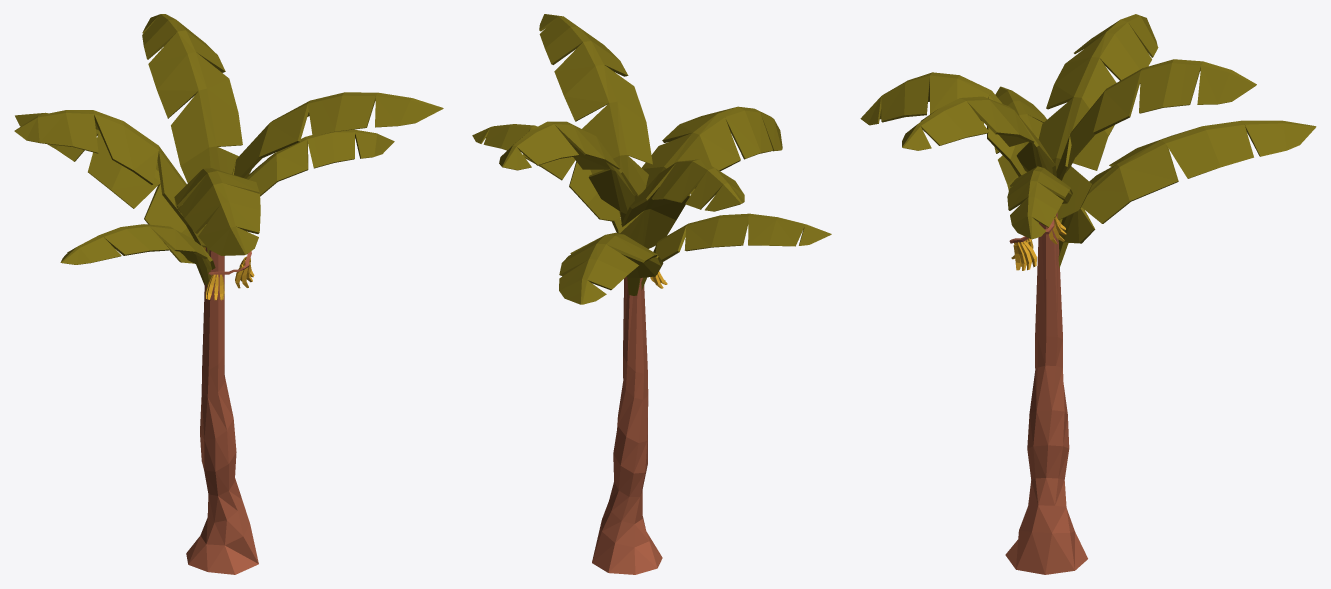
File: BananaTree_1.fbx
3 views of the same model, side by side, from view 1: azimuth 30°, elevation 25°; view 2: azimuth 150°, elevation 25°; view 3: azimuth 270°, elevation 25° (orthographic). The views are drawn at different scales.
Parts seen in each view (by area): view 1: BananaTree_1; view 2: BananaTree_1; view 3: BananaTree_1.
Boxes of the visible parts, x1,y1,x2,y2 form: BananaTree_1: (14, 14, 443, 574); BananaTree_1: (472, 14, 831, 574); BananaTree_1: (860, 14, 1316, 574).
Size of the model in its own units: 2.12 by 2.78 by 2.27.
